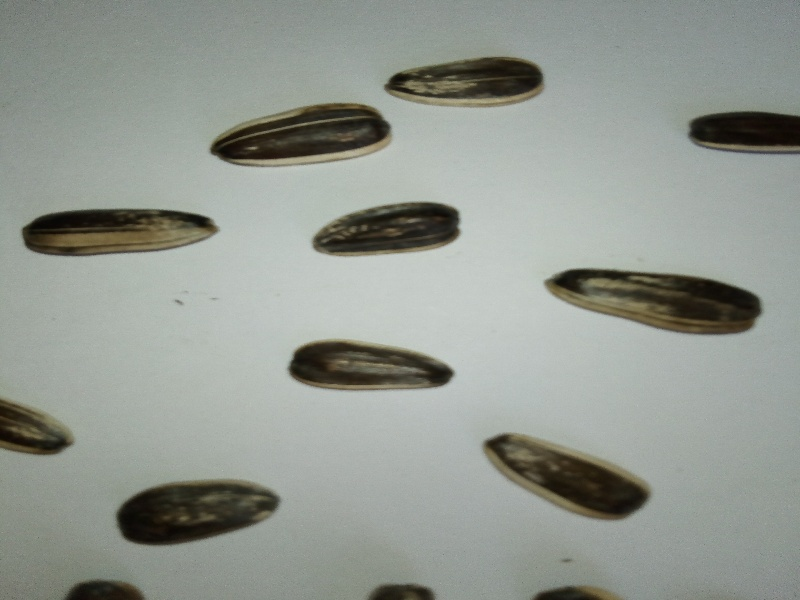girasol: (470, 423, 657, 529), (538, 261, 769, 344), (100, 471, 294, 550), (201, 99, 403, 173), (19, 204, 233, 261), (379, 50, 558, 112), (306, 195, 468, 262), (282, 336, 459, 396)
